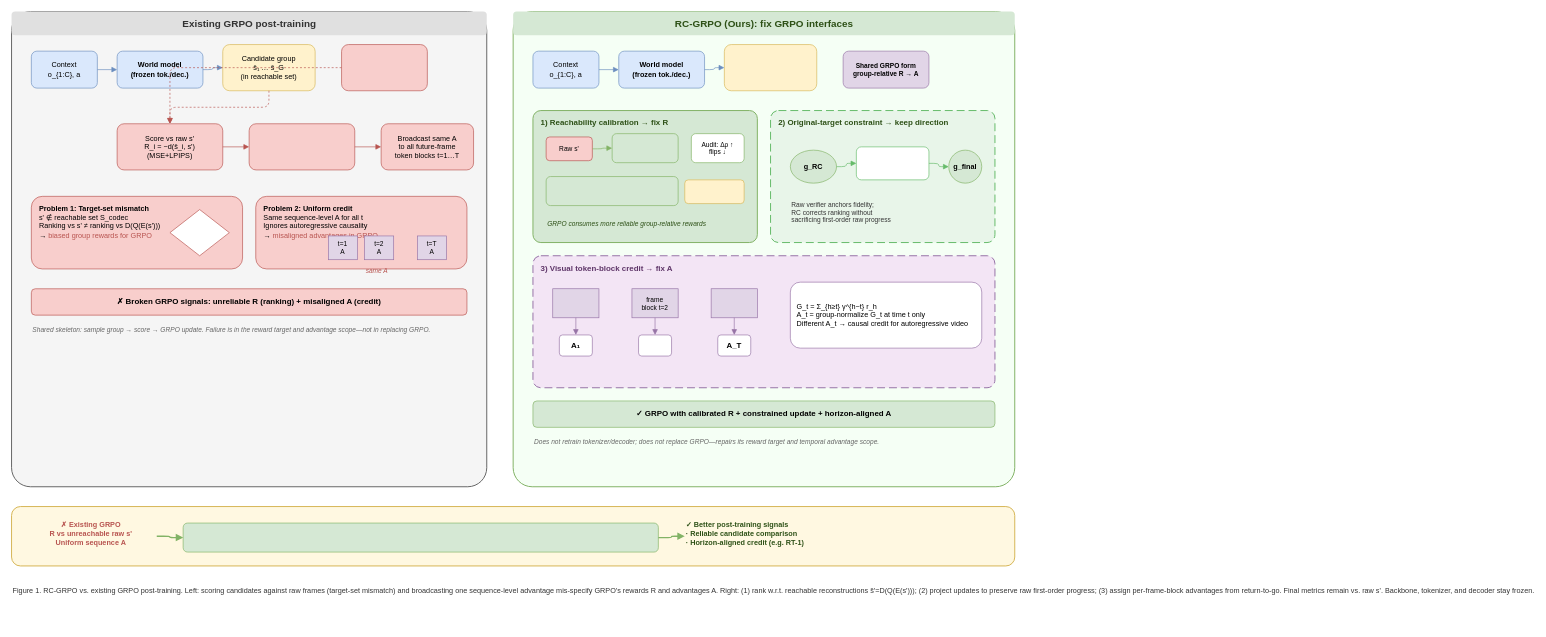
This 1546x637 diagram has some shape labels left out. The box of each missing label's shape, as (x1, y1, x2, y2) in pixels:
A₂: (638, 334, 672, 356)
Candidate group ŝ₁ … ŝ_G (same as left): (724, 44, 817, 91)
D(Q(E(s'))) reachable s̃': (611, 133, 678, 163)
Eval still vs raw s': (684, 179, 744, 204)
frame block t=1: (552, 288, 599, 318)
frame block t=T: (710, 288, 757, 318)
GRPO group-normalize R → one sequence A: (248, 123, 355, 170)
Half-space proj. ⟨g, g_raw⟩ ≥ 0: (856, 146, 929, 180)
raw s' ≠ S_codec: (169, 209, 229, 256)
Raw target s' (often outside codec set): (341, 44, 427, 91)
RC-GRPO = Calibrated targets + Direction consistency + Temporal credit alignment: (182, 522, 658, 552)
Train ranking: R^RC vs s̃' (MSE + LPIPS kept): (545, 176, 678, 206)
